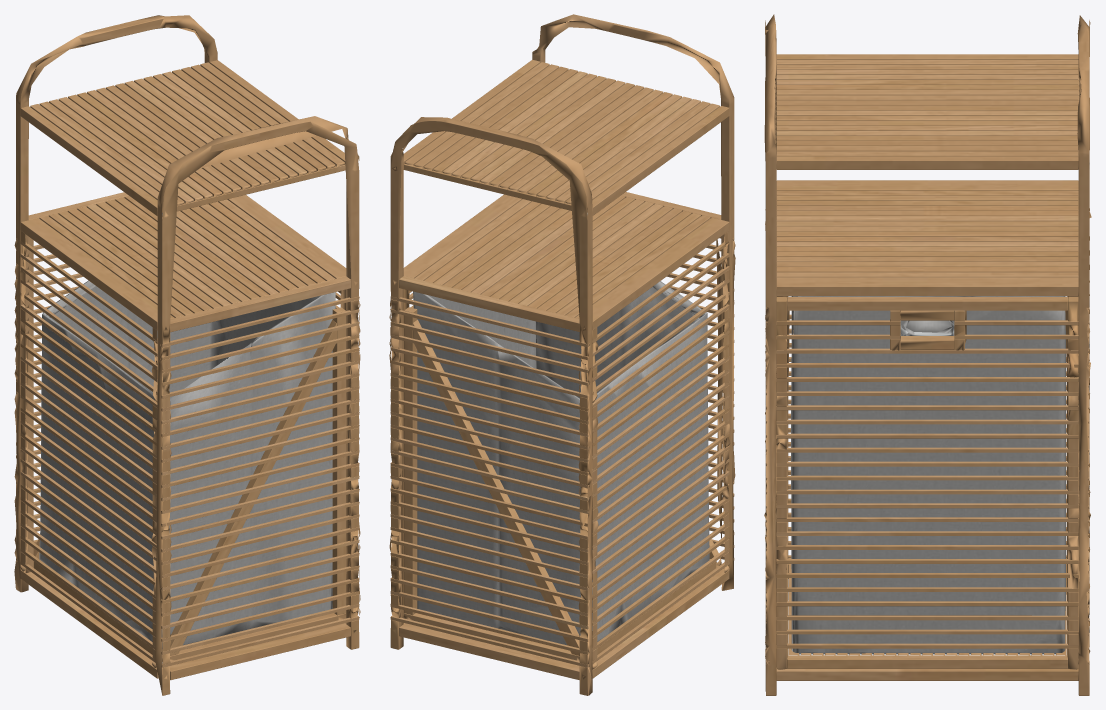
Rendered from storage_bin_bamboo_a01.glb.
The picture shows the model from 3 angles, left to right: view 1: azimuth 30°, elevation 25°; view 2: azimuth 150°, elevation 25°; view 3: azimuth 270°, elevation 25°; orthographic projection. The views are drawn at different scales.
Visible parts, largest first — view 1: sm_storage_bin_bamboo_a01_01; view 2: sm_storage_bin_bamboo_a01_01; view 3: sm_storage_bin_bamboo_a01_01.
Boxes of the visible parts, x1=… form: sm_storage_bin_bamboo_a01_01: x1=14, y1=15, x2=360, y2=695; sm_storage_bin_bamboo_a01_01: x1=389, y1=14, x2=735, y2=695; sm_storage_bin_bamboo_a01_01: x1=764, y1=14, x2=1091, y2=695.
Size of the model in its own units: 0.3573 by 0.916 by 0.4551.
6 materials, 6 textured.
